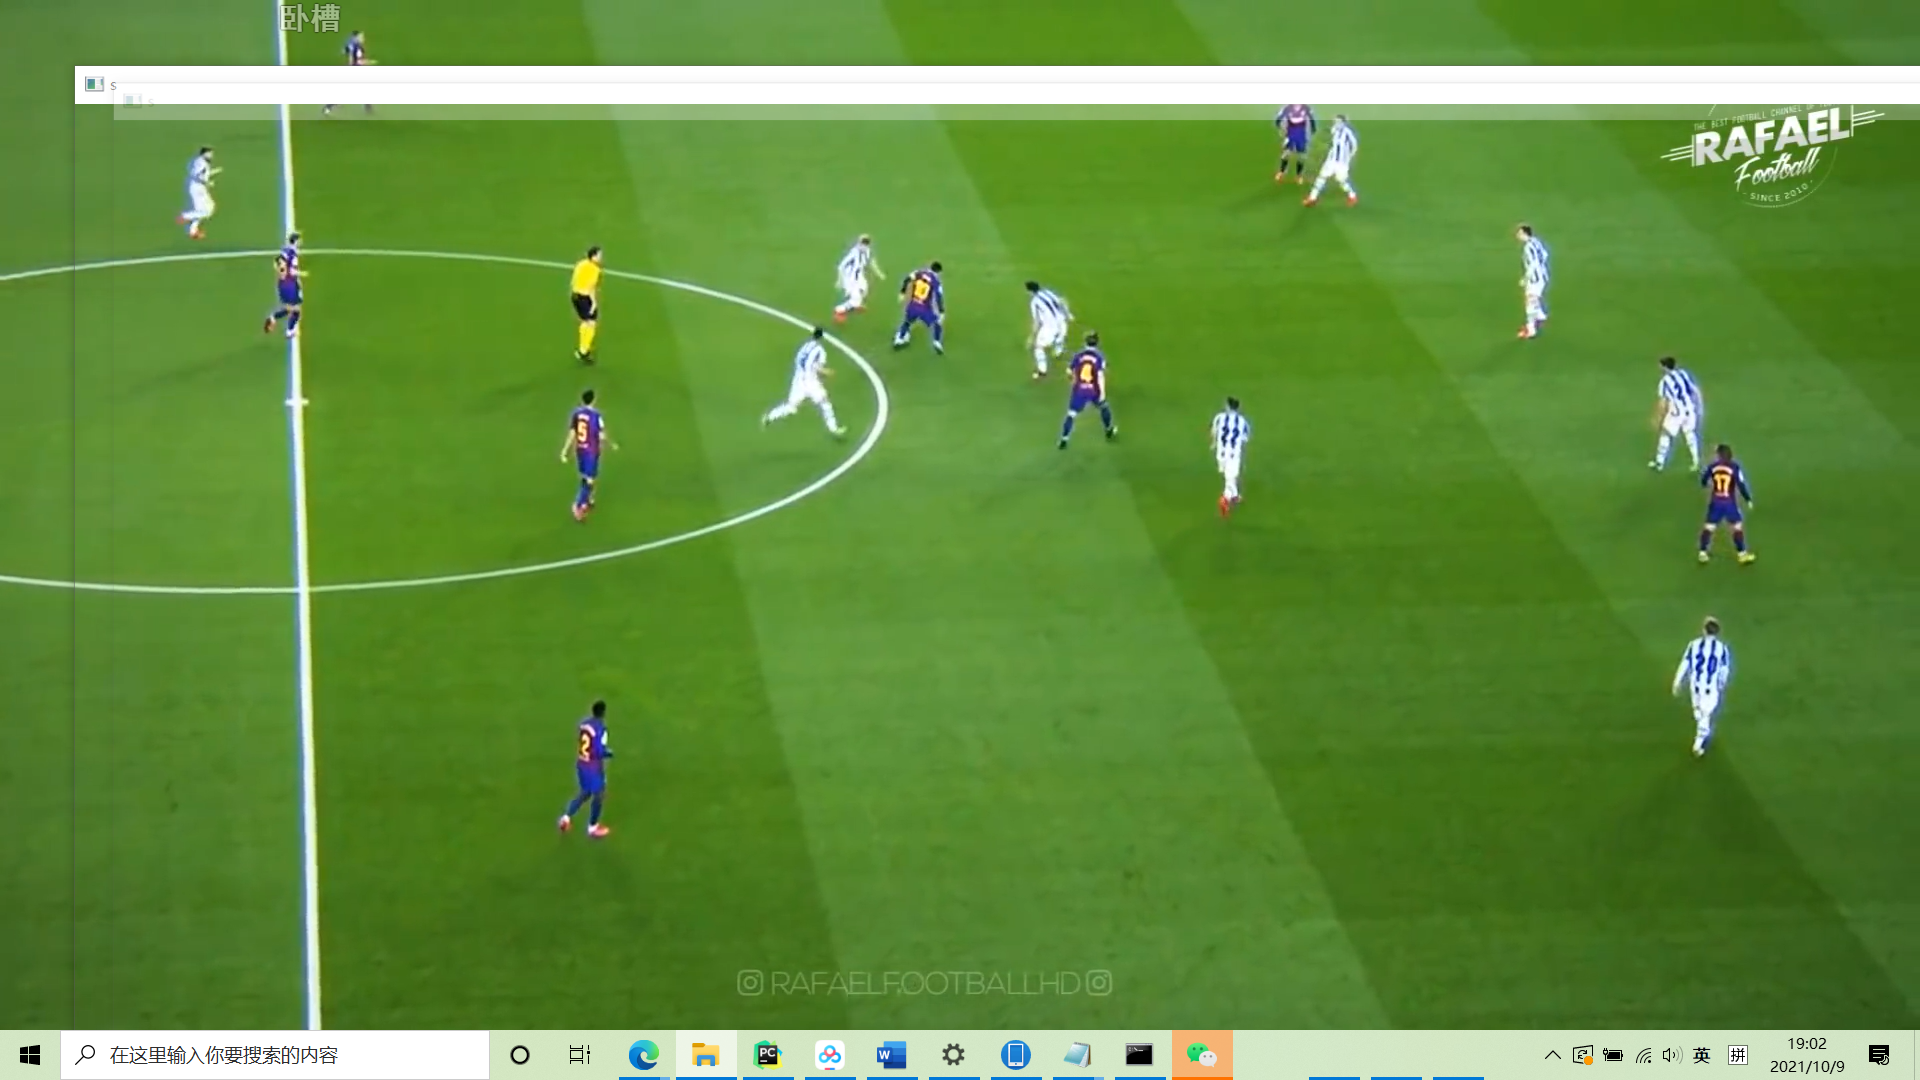ft: (890, 327, 911, 348)
